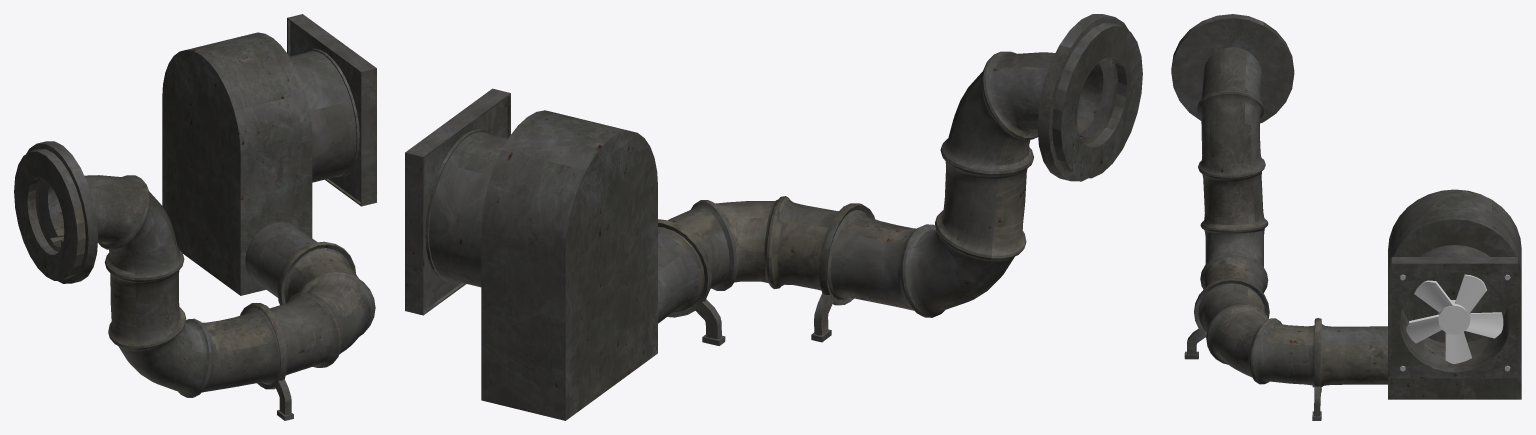
The model's file is Large_Exhaust.glb.
3 renders of one model, left to right at view 1: azimuth 30°, elevation 25°; view 2: azimuth 150°, elevation 25°; view 3: azimuth 270°, elevation 25°, orthographic. The views are drawn at different scales.
Visible parts, largest first — view 1: Exhaust_Pipe; view 2: Exhaust_Pipe; view 3: Exhaust_Pipe, Cylinder.006.
Part boxes in pixels (<box>): Exhaust_Pipe: <box>14,14,376,420</box>; Exhaust_Pipe: <box>405,14,1142,420</box>; Exhaust_Pipe: <box>1171,14,1521,420</box>; Cylinder.006: <box>1406,274,1503,363</box>.
Bounding box in the file's own units: 7.4 × 5 × 6.17.
Materials: 3 (3 with a texture image).
